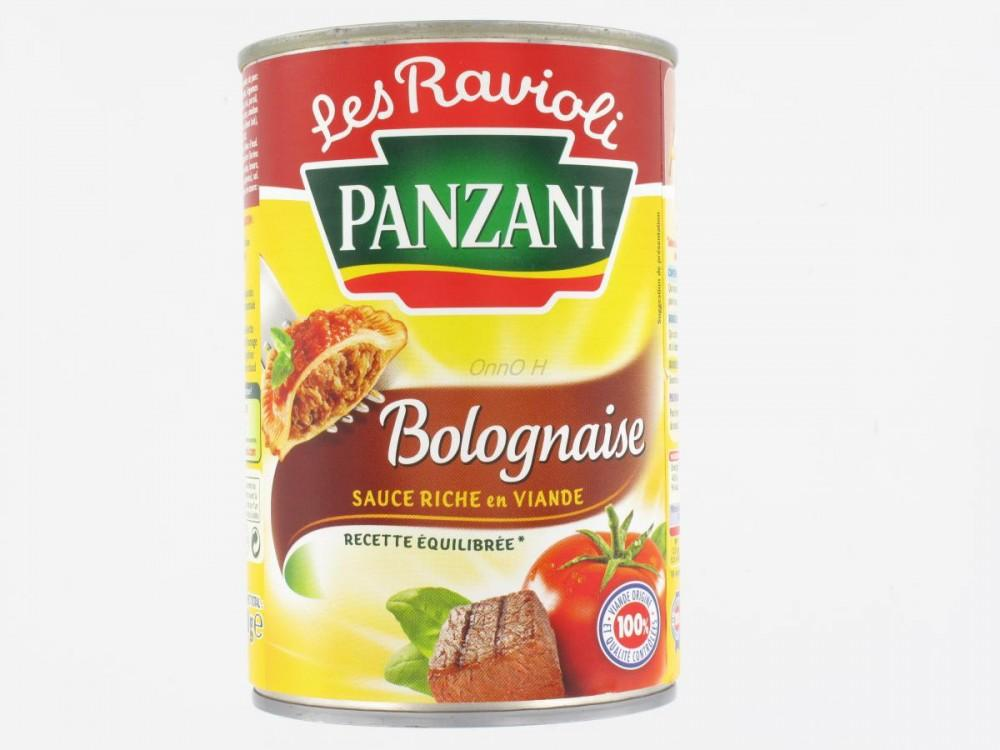metal: (239, 20, 681, 726)
